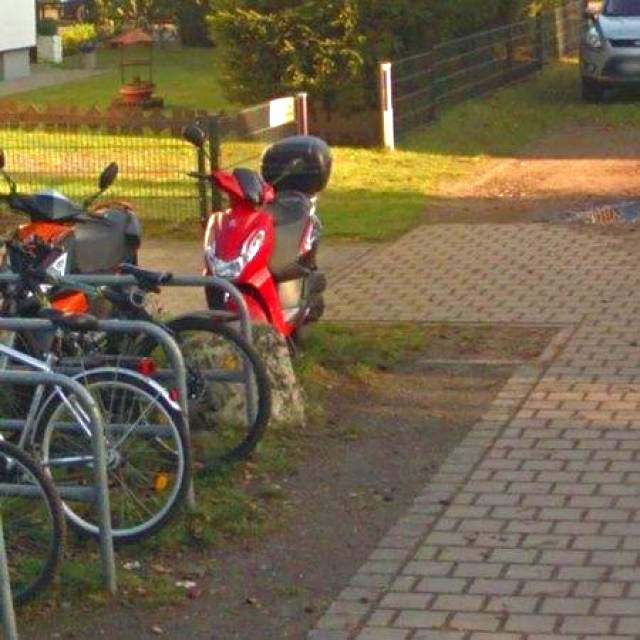bicycle: (0, 256, 293, 489), (0, 308, 171, 581), (0, 392, 75, 608)
motorcycle: (162, 107, 329, 341), (0, 144, 149, 289)
